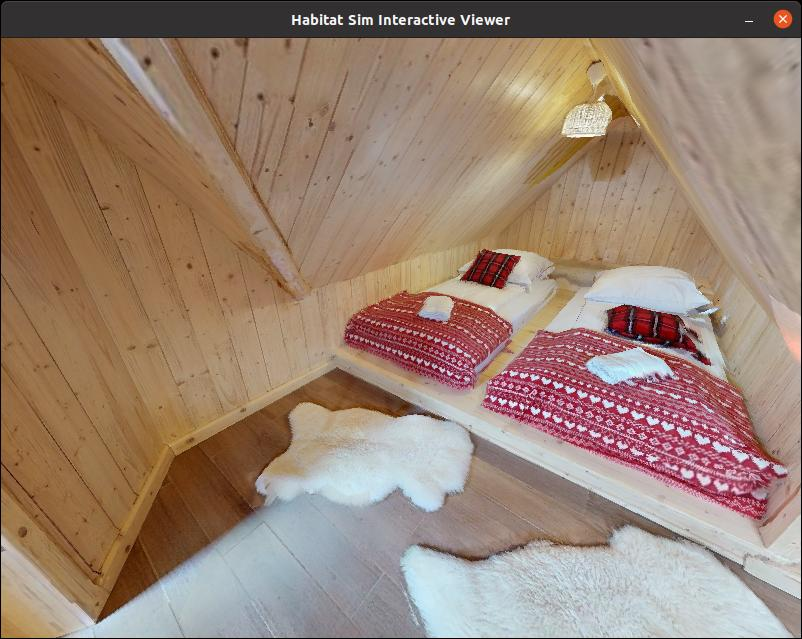bed: (497, 251, 795, 516), (327, 209, 558, 431)
